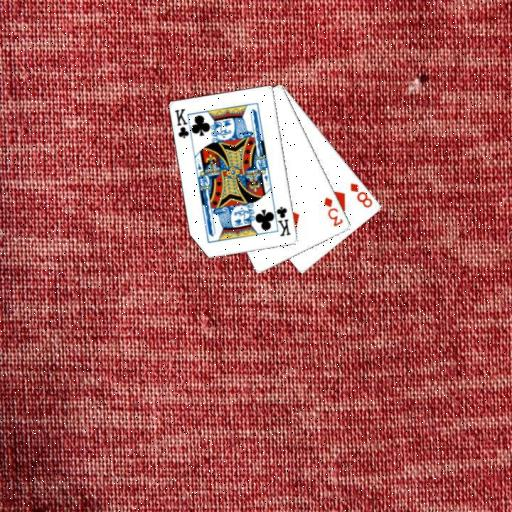3D: (321, 194, 345, 228)
8D: (347, 180, 374, 209)
KC: (270, 202, 293, 238), (172, 106, 194, 142)
